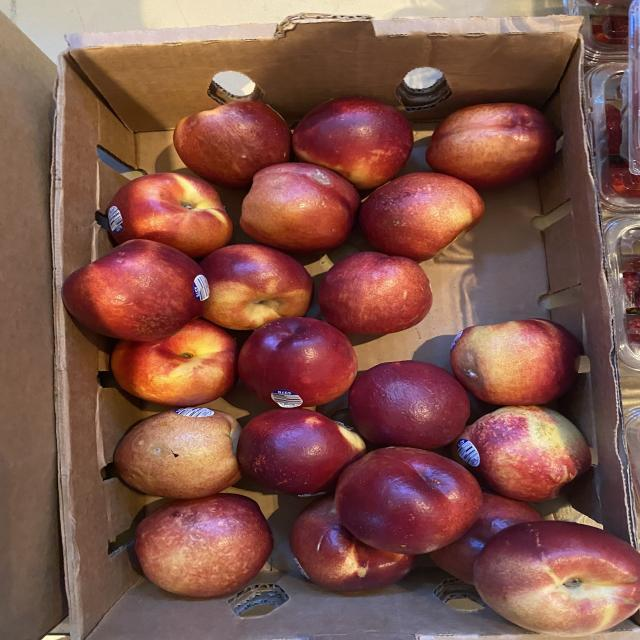Apple -Red-: (474, 521, 639, 636), (335, 446, 483, 555), (62, 239, 210, 341), (135, 494, 274, 596), (452, 405, 591, 501), (290, 495, 417, 591), (426, 102, 558, 189), (114, 410, 242, 499), (292, 96, 413, 190), (110, 319, 239, 406), (451, 319, 581, 405), (360, 172, 484, 262), (240, 162, 360, 254), (237, 409, 365, 495), (107, 172, 233, 258), (349, 360, 470, 449), (239, 318, 358, 408), (173, 99, 292, 188), (431, 492, 543, 584), (199, 244, 313, 330), (319, 251, 433, 334)
